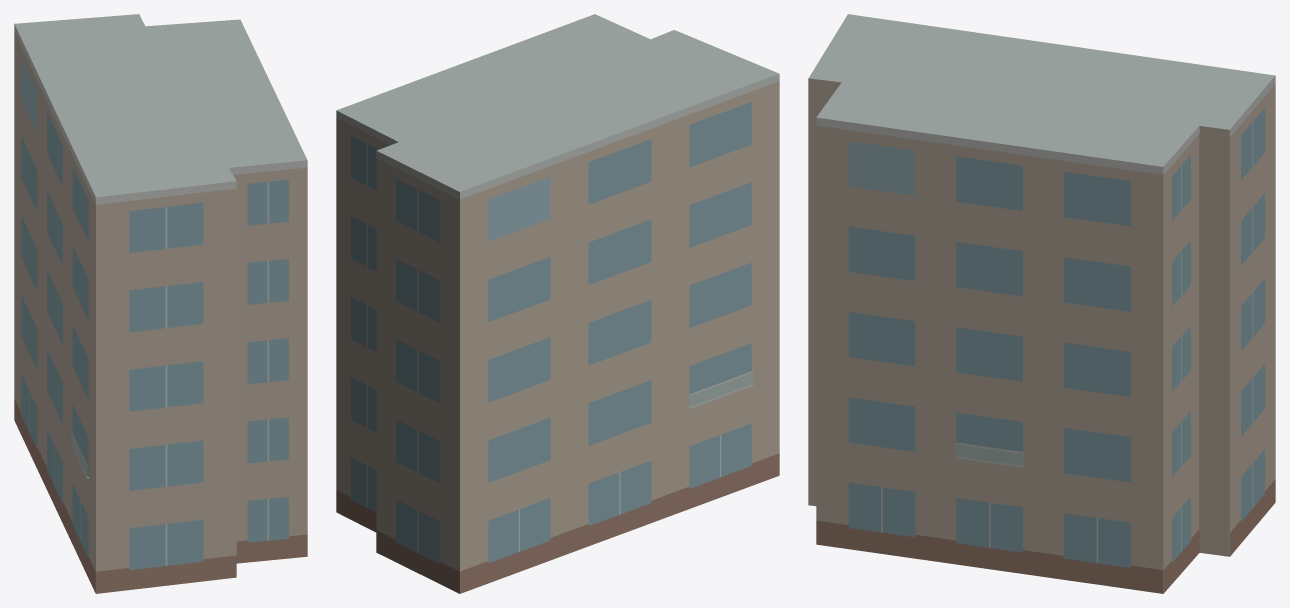
The model's file is survey-upis-32888700.glb.
3 renders of one model, left to right at view 1: azimuth 30°, elevation 25°; view 2: azimuth 150°, elevation 25°; view 3: azimuth 270°, elevation 25°, orthographic. The views are drawn at different scales.
Visible parts, largest first — view 1: survey-upis-32888700.tmp; view 2: survey-upis-32888700.tmp; view 3: survey-upis-32888700.tmp.
Boxes of the visible parts, box(x1,y1,x2,y2) form: survey-upis-32888700.tmp: box(14, 14, 307, 593); survey-upis-32888700.tmp: box(336, 14, 779, 593); survey-upis-32888700.tmp: box(808, 14, 1275, 593).
Bounding box in the file's own units: 10.07 × 13.1 × 13.
